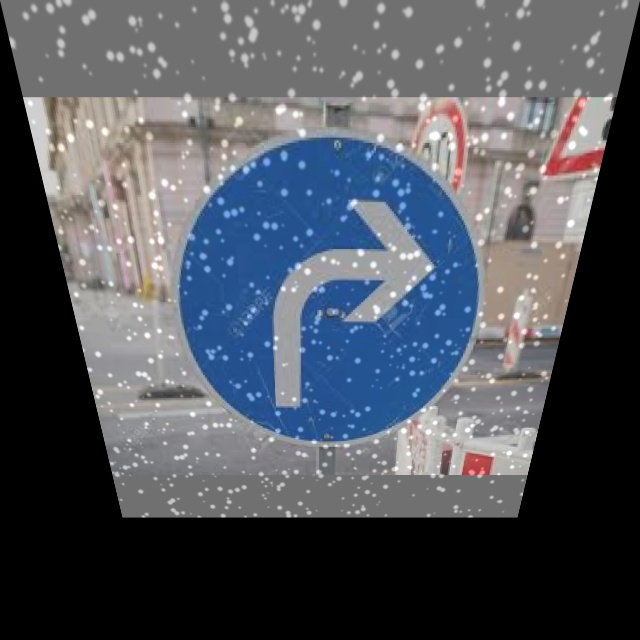Compulsory_Turn_Right_Ahead: (162, 134, 511, 434)
